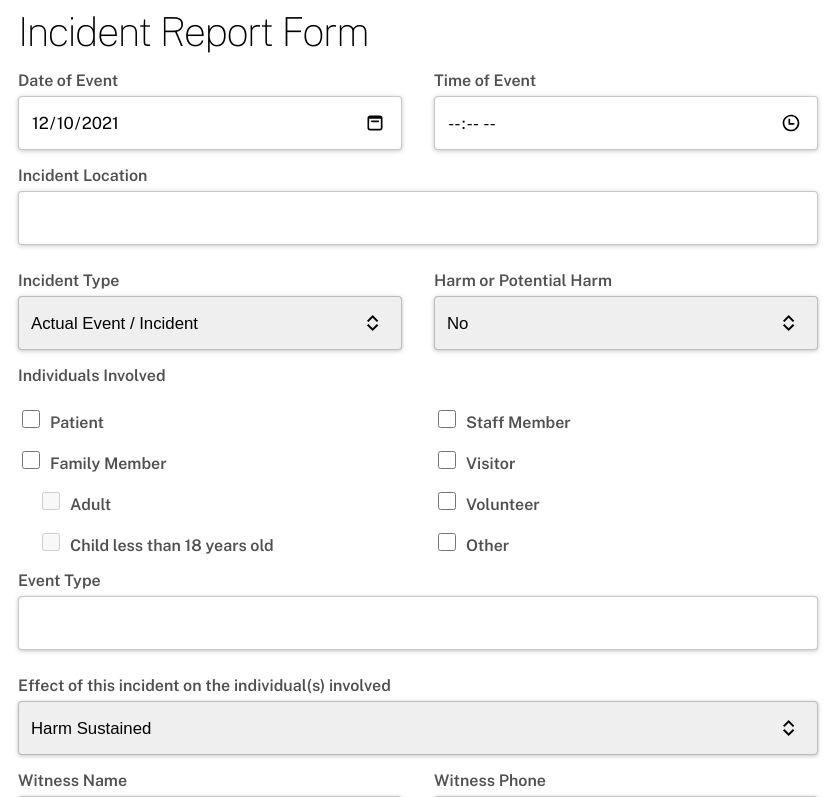
Test: SirForm › accepts time entry
Type "09:15 PM" into the time field labelled "Time of Event".
click(626, 123); type("09:15 PM")  # box 434,96 -> 818,150
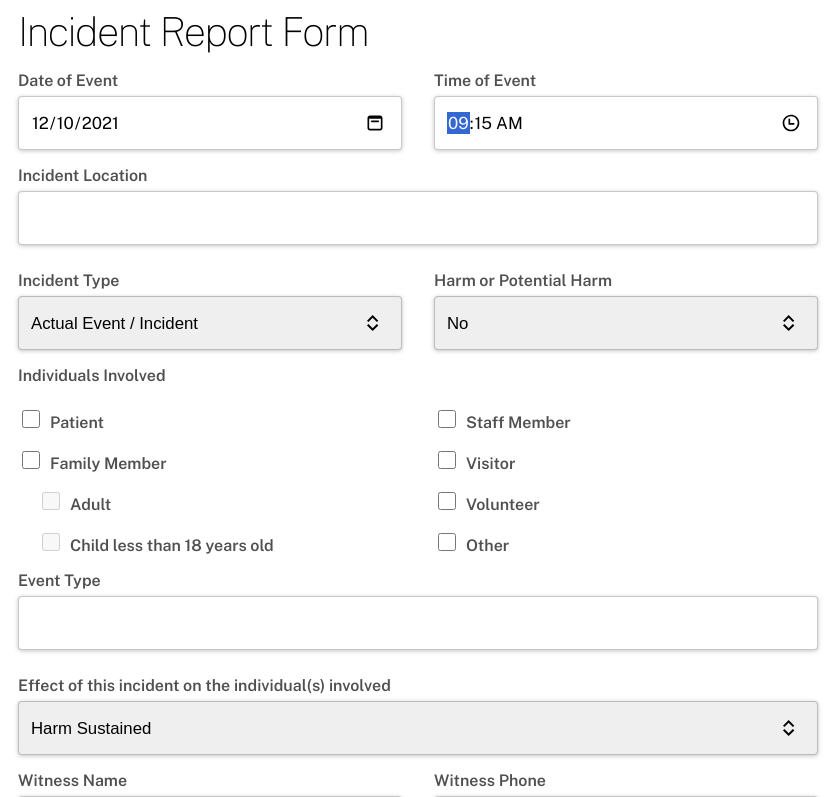
Expected: the time field labelled "Time of Event" holds "09:15", 434,96 -> 818,150
